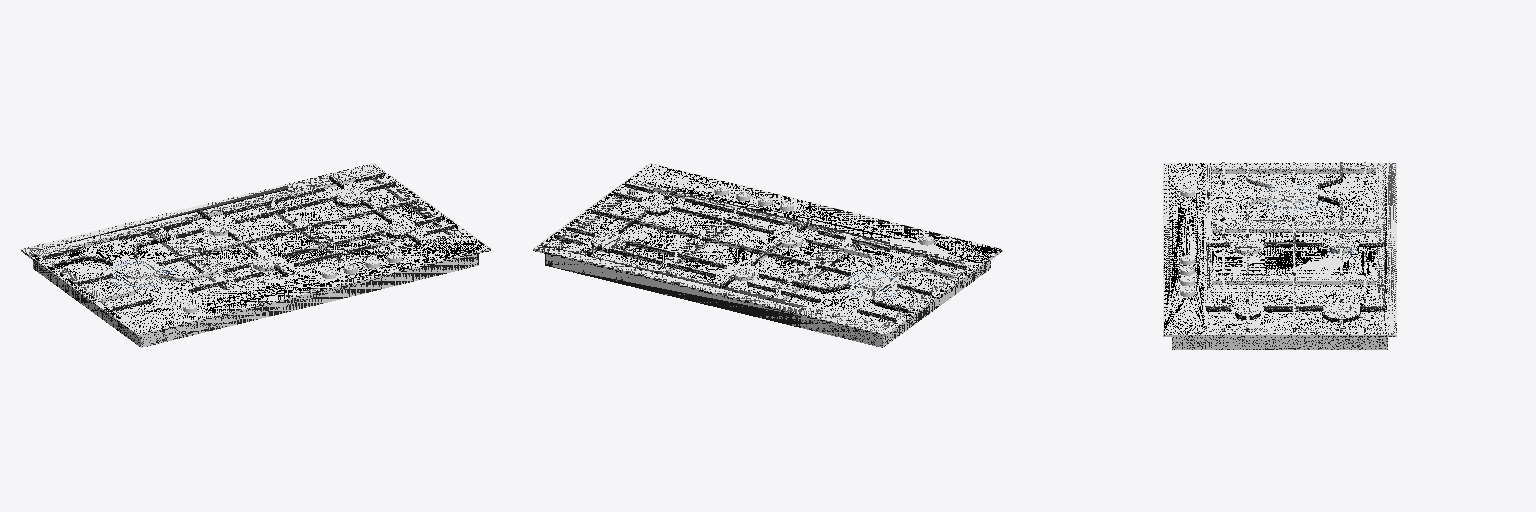
3 renders of one model, left to right at view 1: azimuth 30°, elevation 25°; view 2: azimuth 150°, elevation 25°; view 3: azimuth 270°, elevation 25°, orthographic.
Visible parts, largest first — view 1: mesh31_mesh31-geometry, mesh35_mesh35-geometry, mesh13_mesh13-geometry, mesh25_mesh25-geometry; view 2: mesh31_mesh31-geometry, mesh25_mesh25-geometry, mesh13_mesh13-geometry, mesh35_mesh35-geometry; view 3: mesh31_mesh31-geometry, mesh35_mesh35-geometry.
Part boxes in pixels (x1,y1,x2,y2): mesh31_mesh31-geometry: (21, 163, 490, 347); mesh35_mesh35-geometry: (332, 187, 370, 207); mesh13_mesh13-geometry: (200, 225, 307, 255); mesh25_mesh25-geometry: (312, 198, 418, 228); mesh31_mesh31-geometry: (533, 163, 1002, 347); mesh25_mesh25-geometry: (591, 208, 697, 238); mesh13_mesh13-geometry: (702, 236, 809, 265); mesh35_mesh35-geometry: (592, 232, 629, 252); mesh31_mesh31-geometry: (1163, 162, 1396, 349); mesh35_mesh35-geometry: (1322, 302, 1360, 322).
Size of the model in its own units: 0.8656 by 0.052 by 0.498.
10 materials, 1 textured.